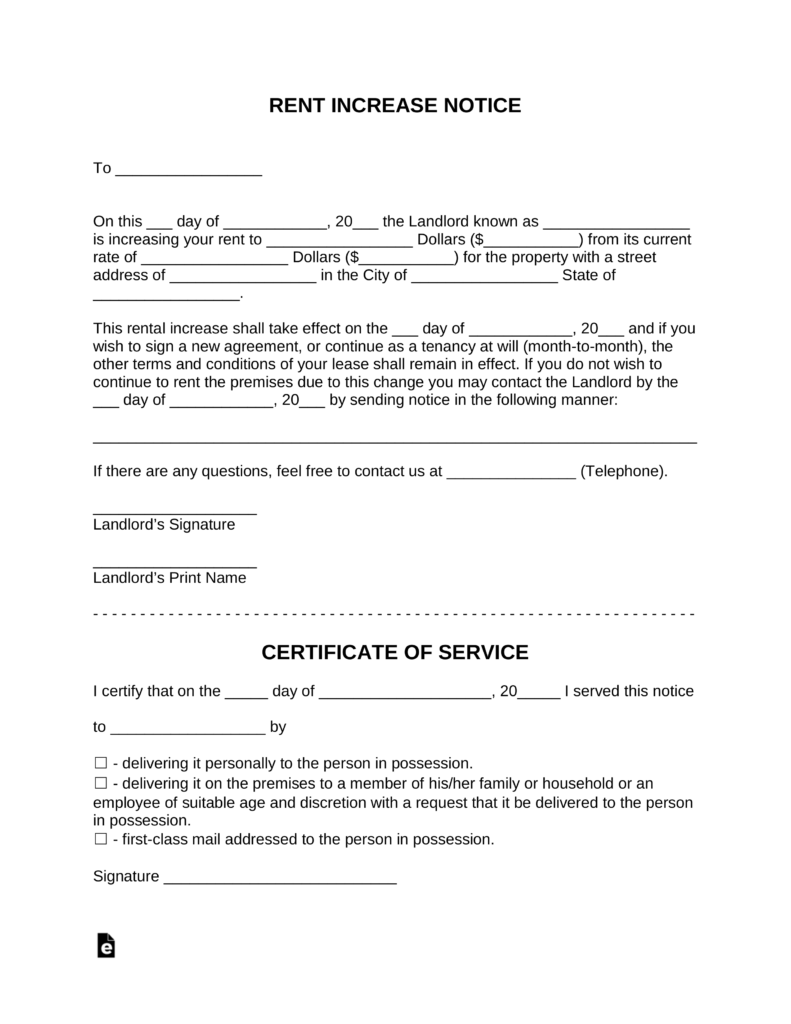checkbox: (93, 752, 110, 772), (92, 775, 111, 791), (93, 831, 111, 847)
textline: (86, 411, 705, 449), (163, 859, 402, 892), (318, 678, 491, 708), (88, 545, 263, 574), (90, 491, 260, 518), (114, 156, 267, 182), (107, 716, 268, 739), (542, 210, 696, 234), (142, 245, 287, 268), (92, 285, 247, 306), (168, 266, 319, 286), (445, 461, 579, 483), (408, 270, 560, 288), (266, 234, 413, 251), (221, 211, 328, 232), (168, 392, 274, 412), (466, 322, 576, 341), (484, 231, 577, 252), (360, 250, 454, 269), (517, 681, 563, 704), (221, 683, 272, 702), (141, 210, 178, 231), (349, 212, 379, 232), (89, 391, 120, 410), (389, 322, 419, 341), (300, 394, 326, 415), (597, 323, 626, 341)
